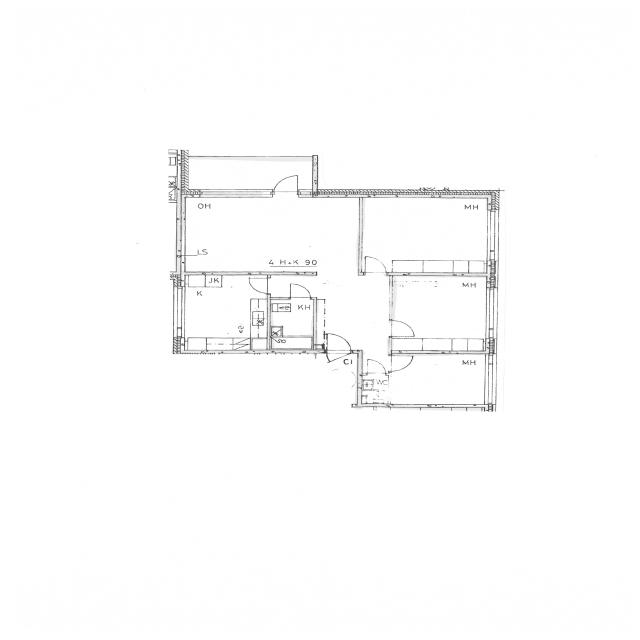door: (323, 333, 352, 364), (270, 173, 303, 197), (359, 254, 387, 275), (388, 354, 417, 374), (244, 276, 274, 294), (387, 320, 416, 338), (287, 282, 314, 301), (361, 359, 388, 376)
window: (188, 190, 264, 198), (171, 290, 185, 332), (483, 294, 498, 332)
zone: (178, 194, 364, 274), (358, 196, 493, 276), (389, 274, 493, 352), (176, 272, 269, 352), (369, 353, 491, 408), (314, 274, 394, 350), (269, 295, 314, 341), (270, 335, 315, 349)
